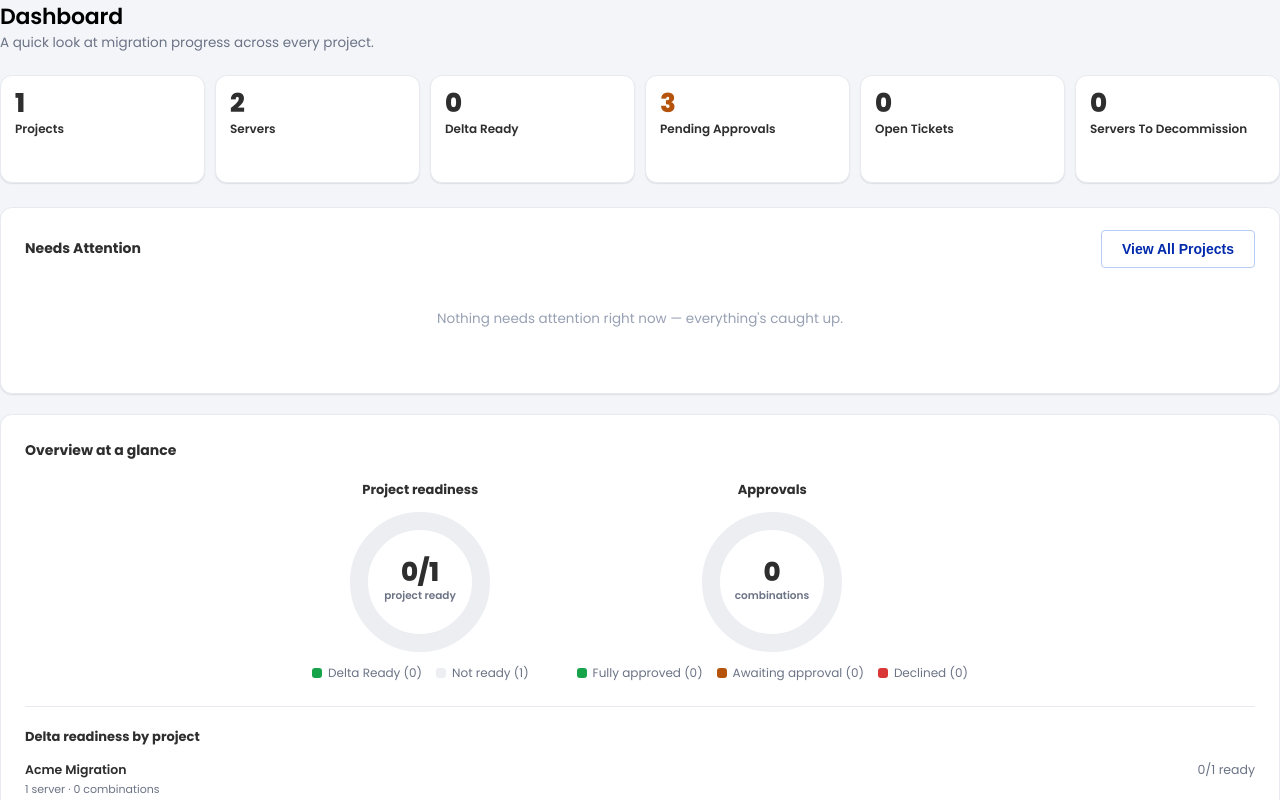
Test: Dashboard server popups › the Servers tile lists each server with its product type and project
Expected: the heading "Dashboard" is shown, [0,1,123,32]
Click the button "2 Servers". click: click(318, 129)
box: [215,75,420,183]
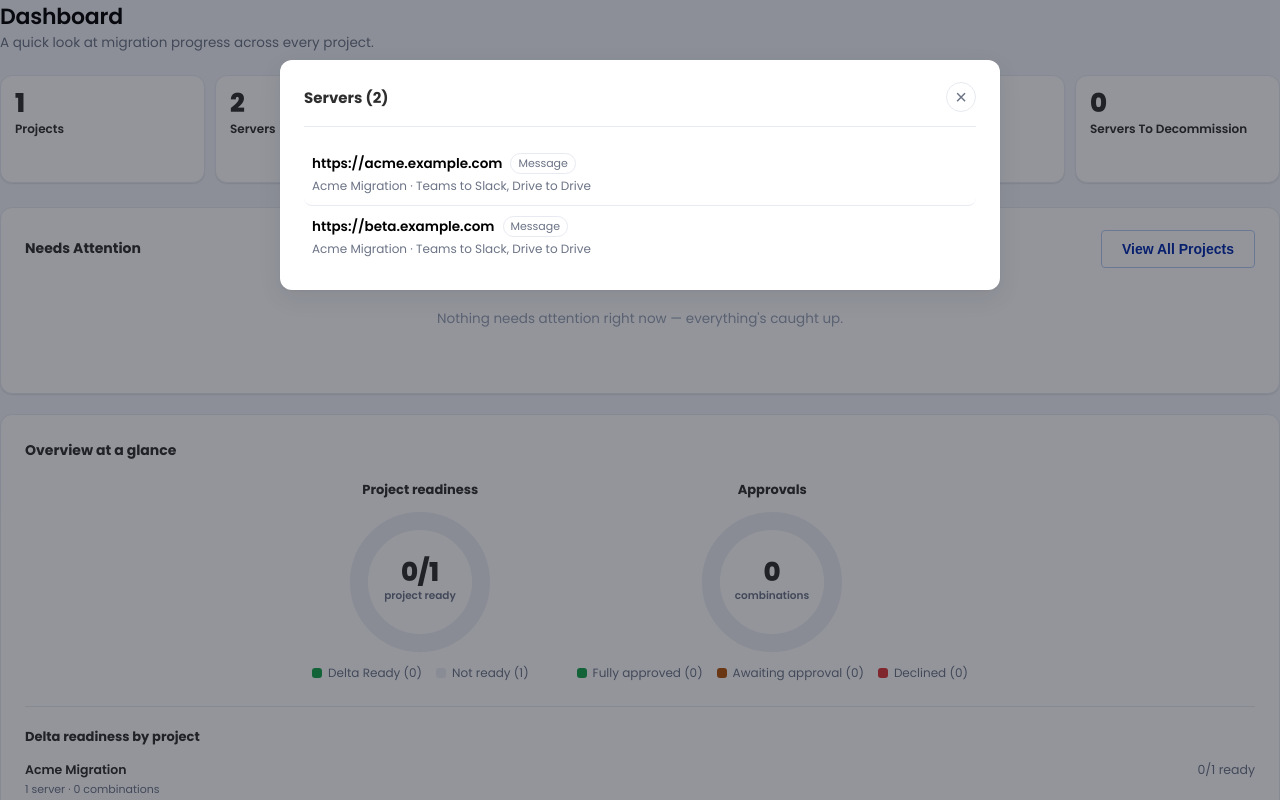
Now the text "https://acme.example.com" is shown, box [312,154,502,174]
Now the text "https://beta.example.com" is shown, box [312,216,494,236]
Now the text "Message" is shown 2 times, box [510,153,576,174]; [502,216,568,237]
